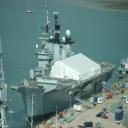Portanaves: (9, 1, 118, 127)
